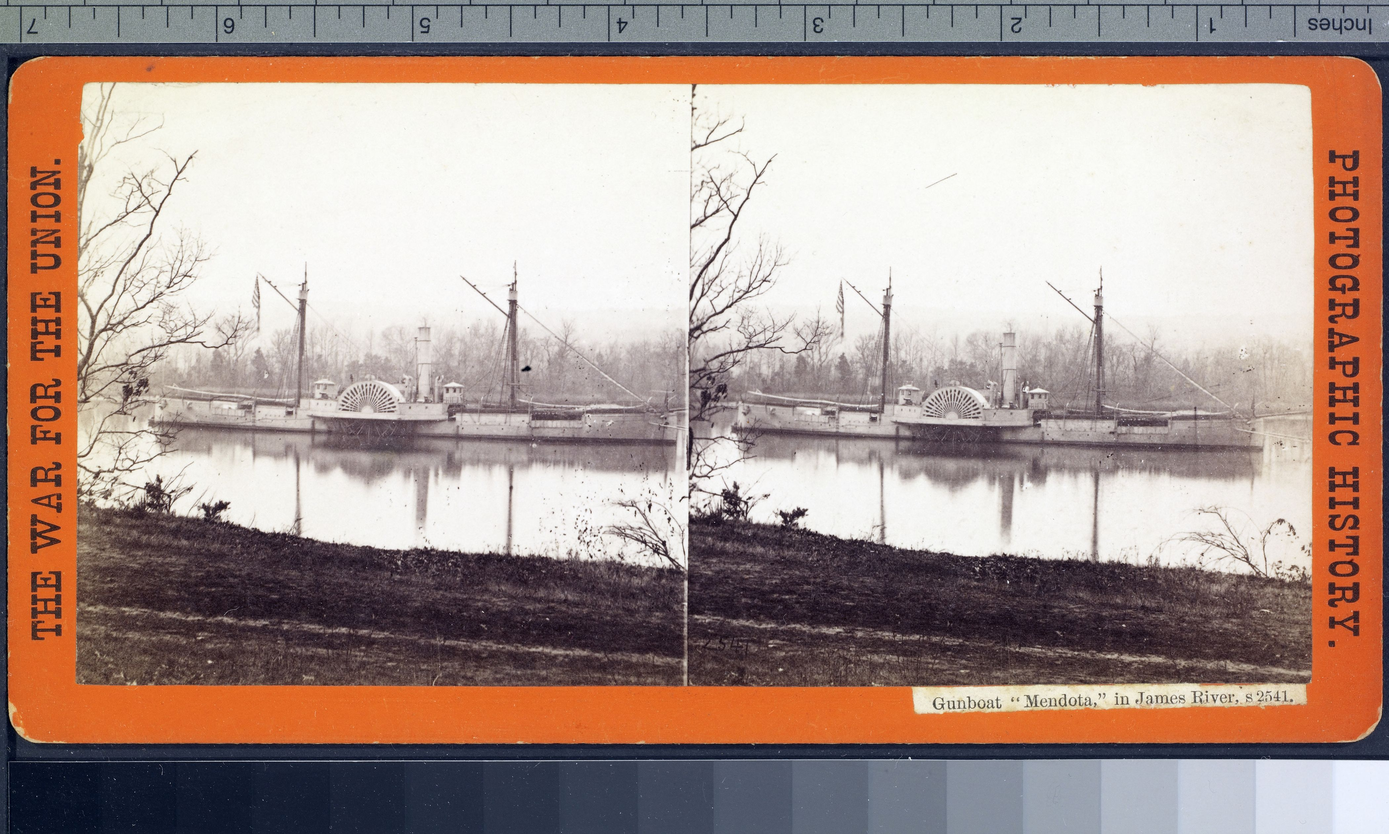half_image: (689, 84, 1311, 687), (76, 83, 687, 687)
